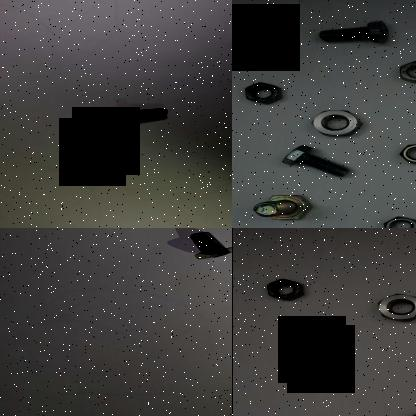Bolts: (312, 16, 396, 52), (275, 144, 356, 180), (300, 338, 352, 393), (240, 190, 324, 224), (191, 228, 232, 263), (113, 104, 169, 125)
NUTS: (302, 102, 368, 142), (371, 290, 416, 329), (236, 78, 288, 108), (260, 278, 308, 308), (391, 60, 416, 86), (376, 212, 416, 228), (394, 142, 416, 167)
